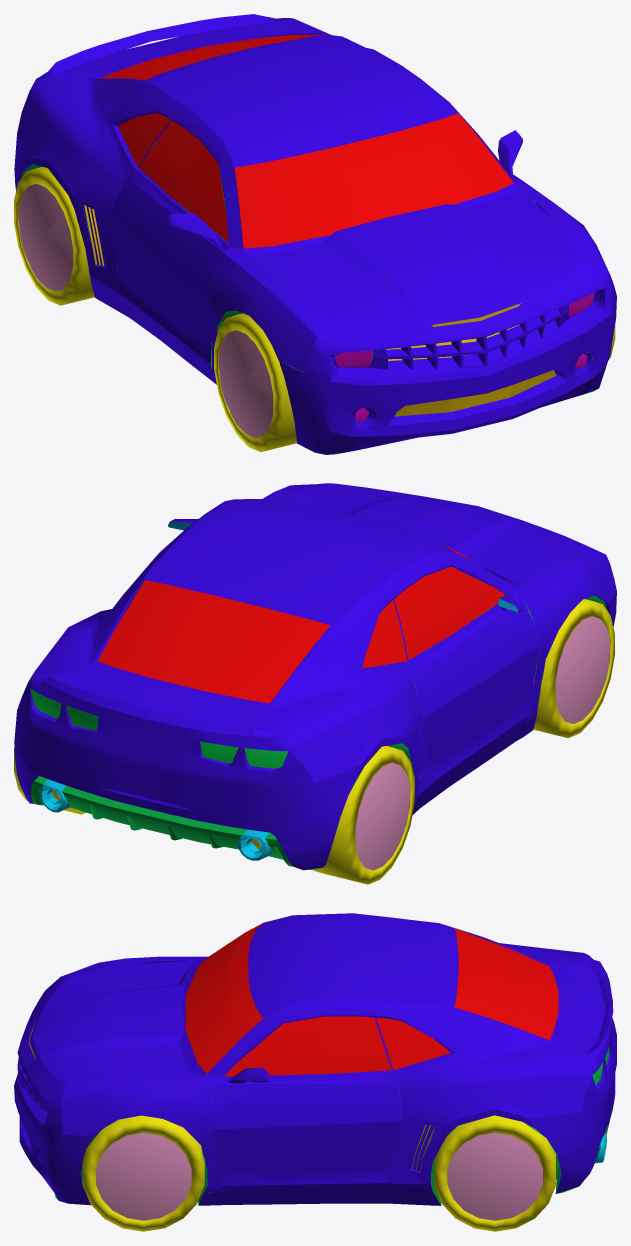
File: Car06_Low_ColorCoded.fbx
The picture shows the model from 3 angles, top to bottom: view 1: azimuth 30°, elevation 25°; view 2: azimuth 150°, elevation 25°; view 3: azimuth 270°, elevation 25°; orthographic projection. The views are drawn at different scales.
Parts seen in each view (by area): view 1: carBody_low, tireFrontR_low, tireBackR_low; view 2: carBody_low, tireBackR_low, tireFrontR_low; view 3: carBody_low, tireFrontL_low, tireBackL_low.
Boxes of the visible parts, x1,y1,x2,y2 form: carBody_low: (14,14,616,454); tireFrontR_low: (214,313,296,451); tireBackR_low: (14,167,94,305); carBody_low: (14,483,616,870); tireBackR_low: (312,746,414,884); tireFrontR_low: (533,599,614,737); carBody_low: (14,913,616,1205); tireFrontL_low: (83,1115,204,1231); tireBackL_low: (434,1115,555,1231).
Size of the model in its own units: 65.48 by 111 by 42.41.
